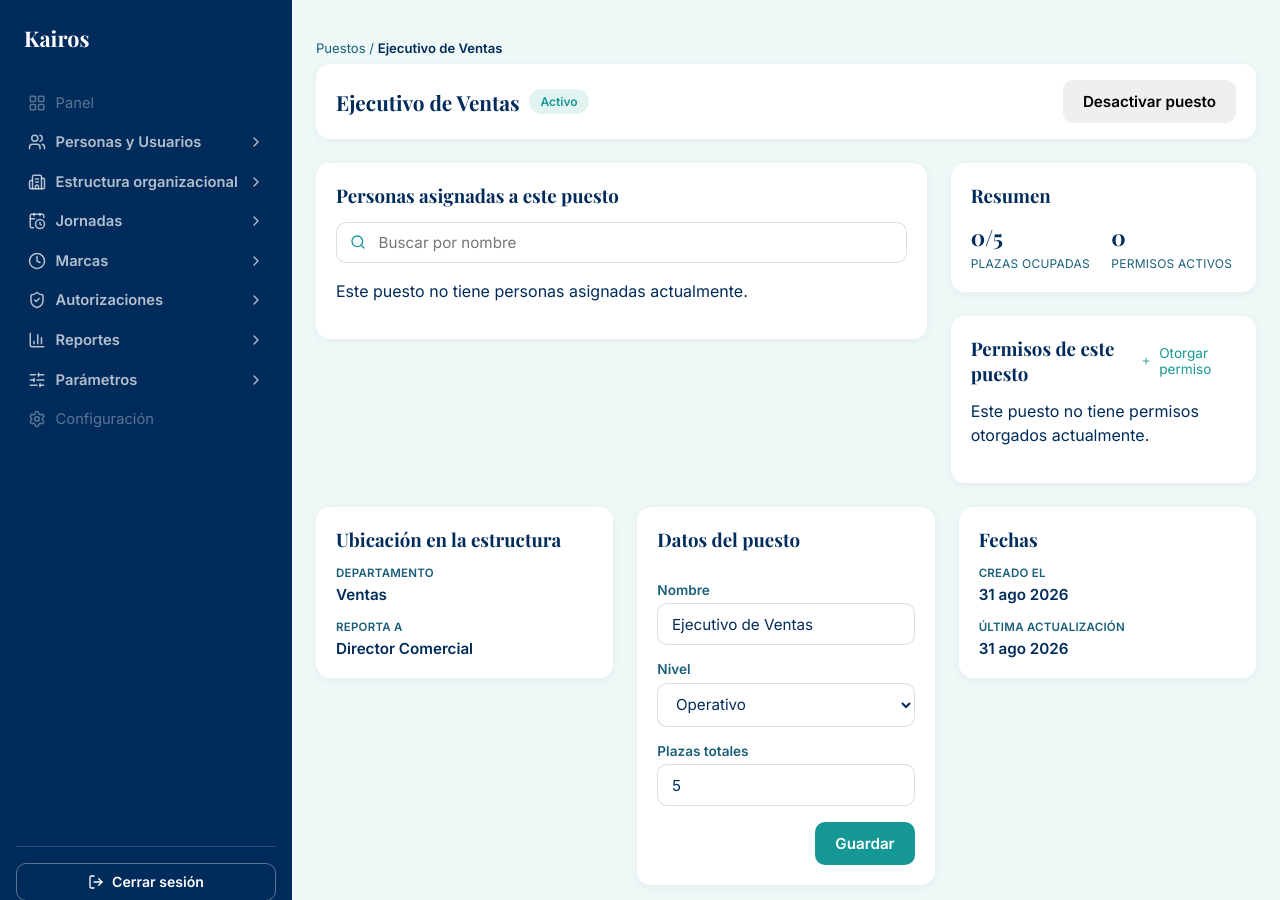
Test: FichaPuestoPage › desactiva el puesto cuando no hay subordinados activos
Expected: the text "Ejecutivo de Ventas" next to "Puestos" is shown, [378,40,503,56]
Click the button "Desactivar puesto" at (1149, 102), box [1063,80,1236,123]
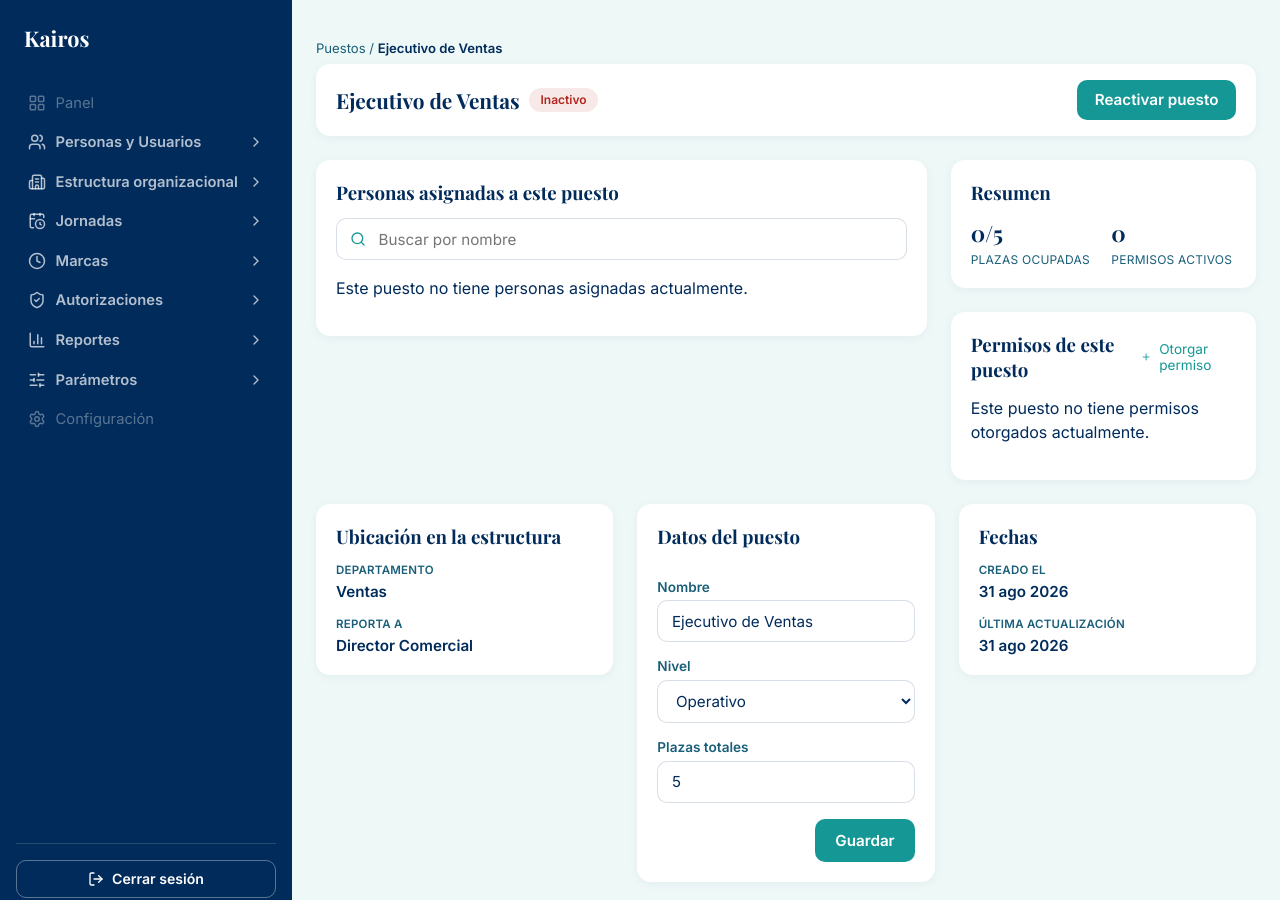
Expected: the text "Inactivo" is shown, [529,88,598,112]
Expected: the button "Reactivar puesto" is shown, [1077,80,1236,120]
